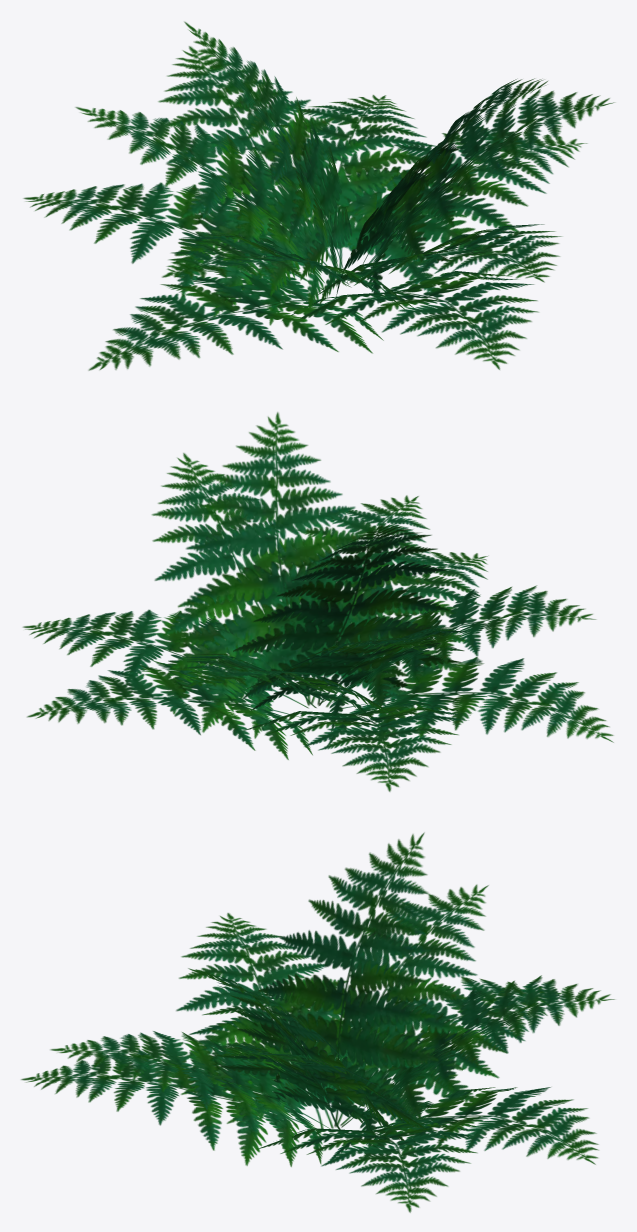
File: fern-small.lod0.glb
3 views of the same model, one above another, from view 1: azimuth 30°, elevation 25°; view 2: azimuth 150°, elevation 25°; view 3: azimuth 270°, elevation 25° (orthographic). The views are drawn at different scales.
Visible parts, largest first — view 1: SM_Fern_01_Ferns_0; view 2: SM_Fern_01_Ferns_0; view 3: SM_Fern_01_Ferns_0.
Part boxes in pixels (x1,y1,x2,y2): SM_Fern_01_Ferns_0: (23,21,614,370); SM_Fern_01_Ferns_0: (22,412,613,791); SM_Fern_01_Ferns_0: (21,832,614,1212).
Size of the model in its own units: 1.74 by 0.8 by 1.68.
1 material, 1 textured.
